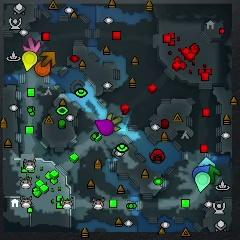p1: (193, 166, 210, 180)
p2: (195, 171, 211, 193)
p3: (94, 120, 114, 135)
p4: (22, 51, 37, 71)
p5: (35, 61, 51, 76)
x1: (24, 37, 40, 53)
x2: (107, 114, 122, 131)
x3: (198, 156, 215, 167)
x4: (207, 164, 220, 185)
x5: (41, 51, 56, 68)
